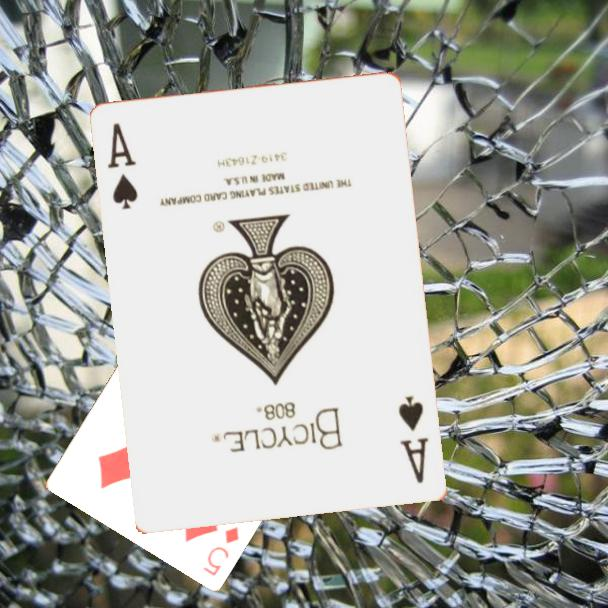d05: (199, 522, 242, 578)
s01: (395, 392, 432, 487), (104, 119, 141, 213)
